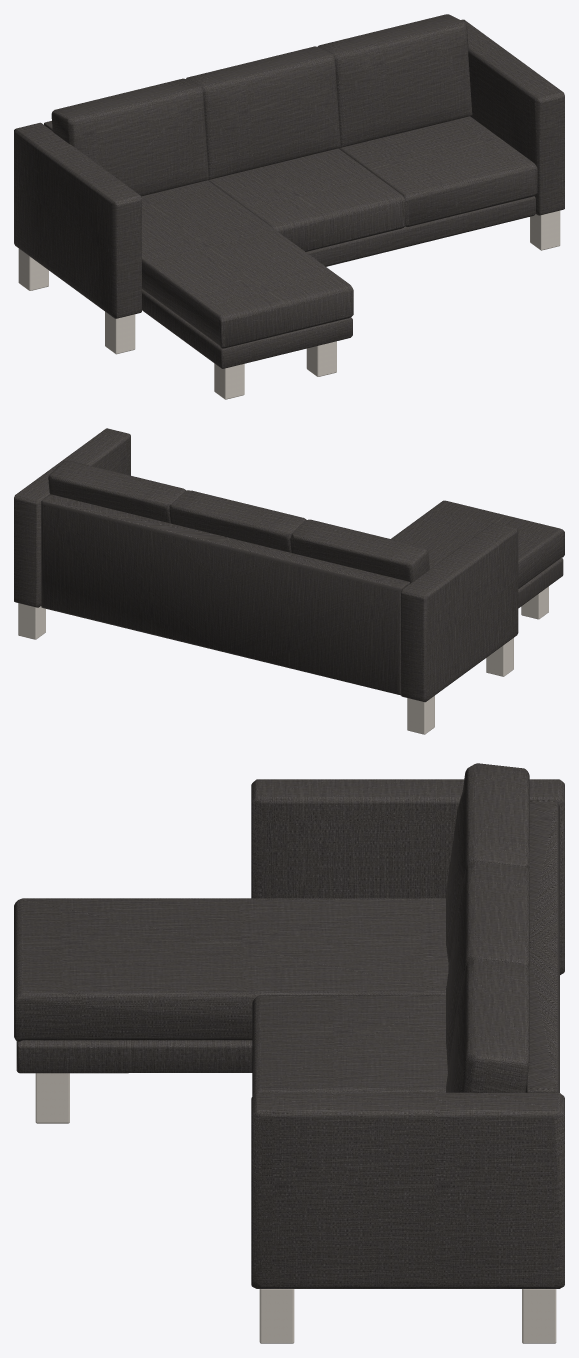
Rendered from sofa_l.glb.
The picture shows the model from 3 angles, top to bottom: view 1: azimuth 30°, elevation 25°; view 2: azimuth 150°, elevation 25°; view 3: azimuth 270°, elevation 25°; orthographic projection. The views are drawn at different scales.
Visible parts, largest first — view 1: couch_Plane.002; view 2: couch_Plane.002; view 3: couch_Plane.002.
Part boxes in pixels (left/top/right/bottom): couch_Plane.002: left=14, top=14, right=564, bottom=399; couch_Plane.002: left=14, top=428, right=564, bottom=734; couch_Plane.002: left=14, top=763, right=564, bottom=1343.
Bounding box in the file's own units: 2.3 × 0.866 × 1.6.
Materials: 2 (2 with a texture image).
